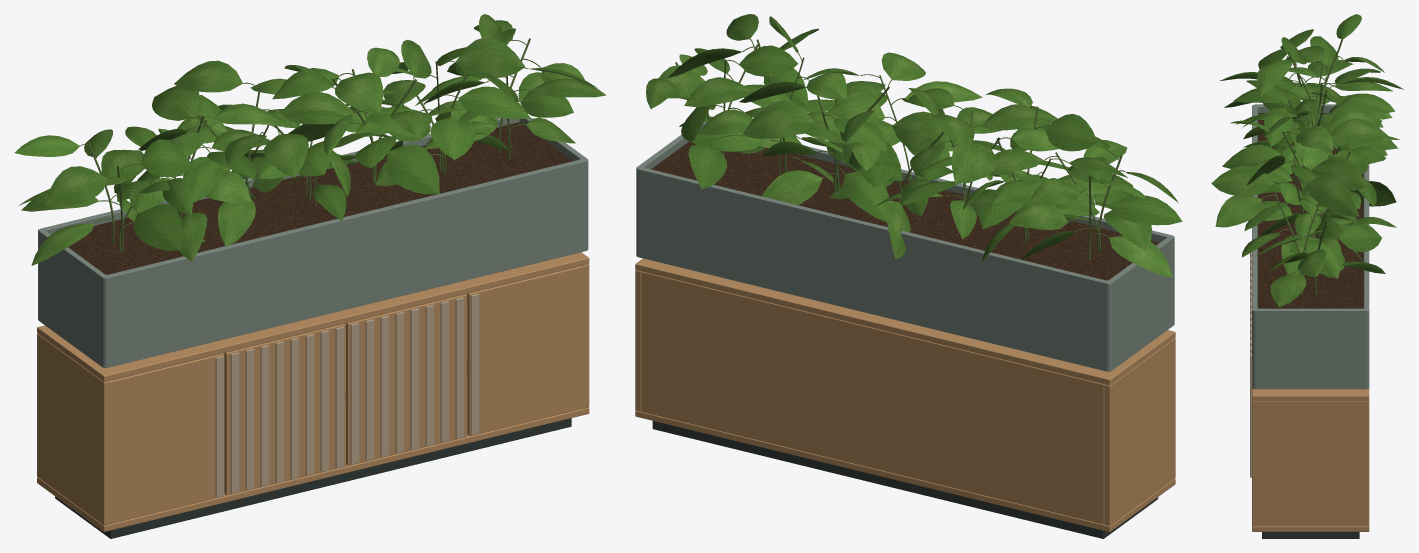
Rendered from botanicalDivider-12.glb.
The picture shows the model from 3 angles, left to right: view 1: azimuth 30°, elevation 25°; view 2: azimuth 150°, elevation 25°; view 3: azimuth 270°, elevation 25°; orthographic projection. The views are drawn at different scales.
Visible parts, largest first — view 1: Planter_pothos_leaves, Planter_oiled_oak, StoragePlanter_Door (×4), StoragePlanter_Batten (×18), Planter_loose_soil, StoragePlanter_Side, StoragePlanter_Top, StoragePlanter_Plinth, StoragePlanter_Bottom, Planter_pothos_stems; view 2: StoragePlanter_Back, Planter_pothos_leaves, Planter_oiled_oak, Planter_loose_soil, StoragePlanter_Side (×2), StoragePlanter_Top, StoragePlanter_Plinth, StoragePlanter_Bottom, Planter_pothos_stems; view 3: Planter_pothos_leaves, StoragePlanter_Side, Planter_oiled_oak, Planter_loose_soil, Planter_pothos_stems, StoragePlanter_Top, StoragePlanter_Bottom, StoragePlanter_Plinth, StoragePlanter_Batten.
Part boxes in pixels (x1=…): Planter_pothos_leaves: x1=14, y1=14, x2=605, y2=265; Planter_oiled_oak: x1=38, y1=117, x2=588, y2=367; StoragePlanter_Door (×4): x1=105, y1=265, x2=588, y2=524; StoragePlanter_Batten (×18): x1=215, y1=293, x2=479, y2=497; Planter_loose_soil: x1=68, y1=122, x2=572, y2=274; StoragePlanter_Side: x1=37, y1=333, x2=109, y2=525; StoragePlanter_Top: x1=37, y1=252, x2=589, y2=381; StoragePlanter_Plinth: x1=55, y1=418, x2=571, y2=538; StoragePlanter_Bottom: x1=37, y1=374, x2=589, y2=531; Planter_pothos_stems: x1=80, y1=38, x2=541, y2=252; StoragePlanter_Back: x1=641, y1=271, x2=1104, y2=524; Planter_pothos_leaves: x1=646, y1=14, x2=1182, y2=277; Planter_oiled_oak: x1=636, y1=122, x2=1174, y2=371; Planter_loose_soil: x1=651, y1=140, x2=1159, y2=280; StoragePlanter_Side (×2): x1=635, y1=270, x2=1175, y2=525; StoragePlanter_Top: x1=635, y1=258, x2=1175, y2=385; StoragePlanter_Plinth: x1=652, y1=421, x2=1158, y2=538; StoragePlanter_Bottom: x1=635, y1=410, x2=1175, y2=532; Planter_pothos_stems: x1=675, y1=39, x2=1125, y2=259; Planter_pothos_leaves: x1=1211, y1=14, x2=1403, y2=307; StoragePlanter_Side: x1=1252, y1=401, x2=1369, y2=526; Planter_oiled_oak: x1=1252, y1=104, x2=1369, y2=389; Planter_loose_soil: x1=1258, y1=113, x2=1363, y2=308; Planter_pothos_stems: x1=1262, y1=39, x2=1350, y2=295; StoragePlanter_Top: x1=1252, y1=388, x2=1369, y2=401; StoragePlanter_Bottom: x1=1252, y1=526, x2=1369, y2=531; StoragePlanter_Plinth: x1=1262, y1=532, x2=1359, y2=538; StoragePlanter_Batten: x1=1250, y1=352, x2=1251, y2=477.
Size of the model in its own units: 2.26 by 1.58 by 0.7924.
10 materials, 2 textured.
